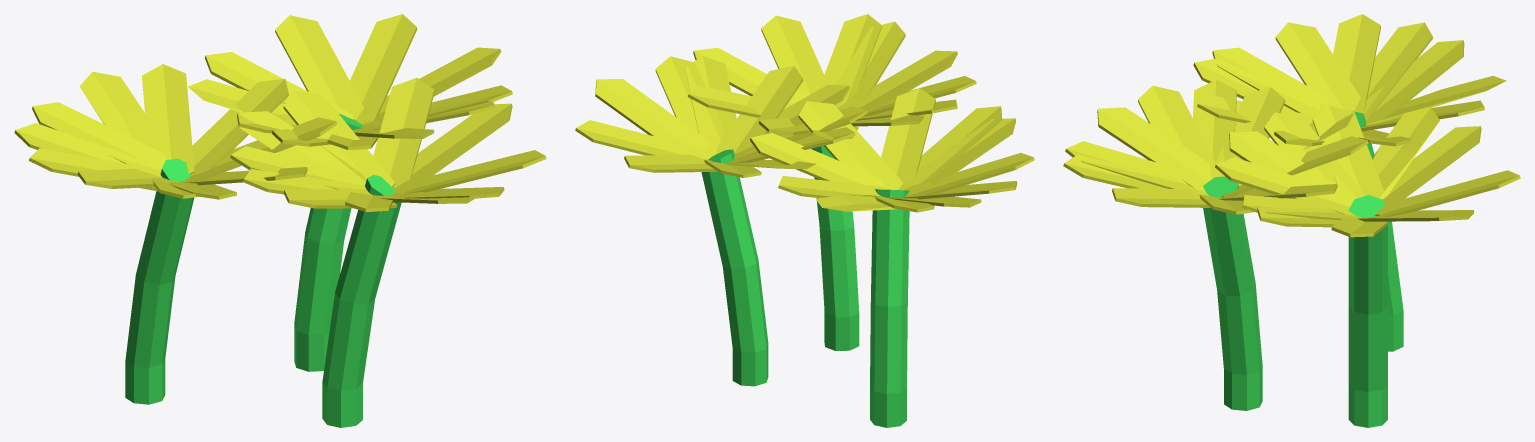
File: flower.glb
The picture shows the model from 3 angles, left to right: view 1: azimuth 30°, elevation 25°; view 2: azimuth 150°, elevation 25°; view 3: azimuth 270°, elevation 25°; orthographic projection. The views are drawn at different scales.
Parts seen in each view (by area): view 1: Plane, Cylinder; view 2: Plane, Cylinder; view 3: Plane, Cylinder.
Part boxes in pixels (x1,y1,x2,y2): Plane: (14,14,546,211); Cylinder: (125,113,401,427); Plane: (575,14,1034,212); Cylinder: (701,146,909,427); Plane: (1063,14,1520,237); Cylinder: (1203,111,1403,427).
Bounding box in the file's own units: 1.69 × 0.9614 × 1.48.
